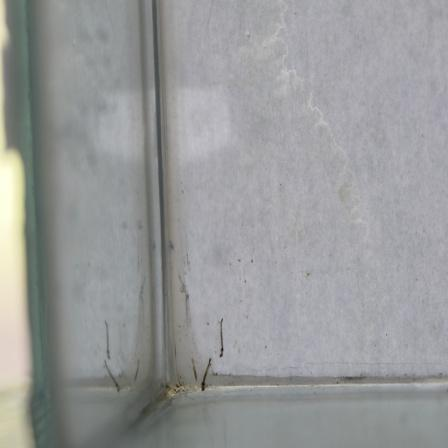Jentik-Nyamuk: (214, 312, 228, 360), (198, 355, 213, 392)
